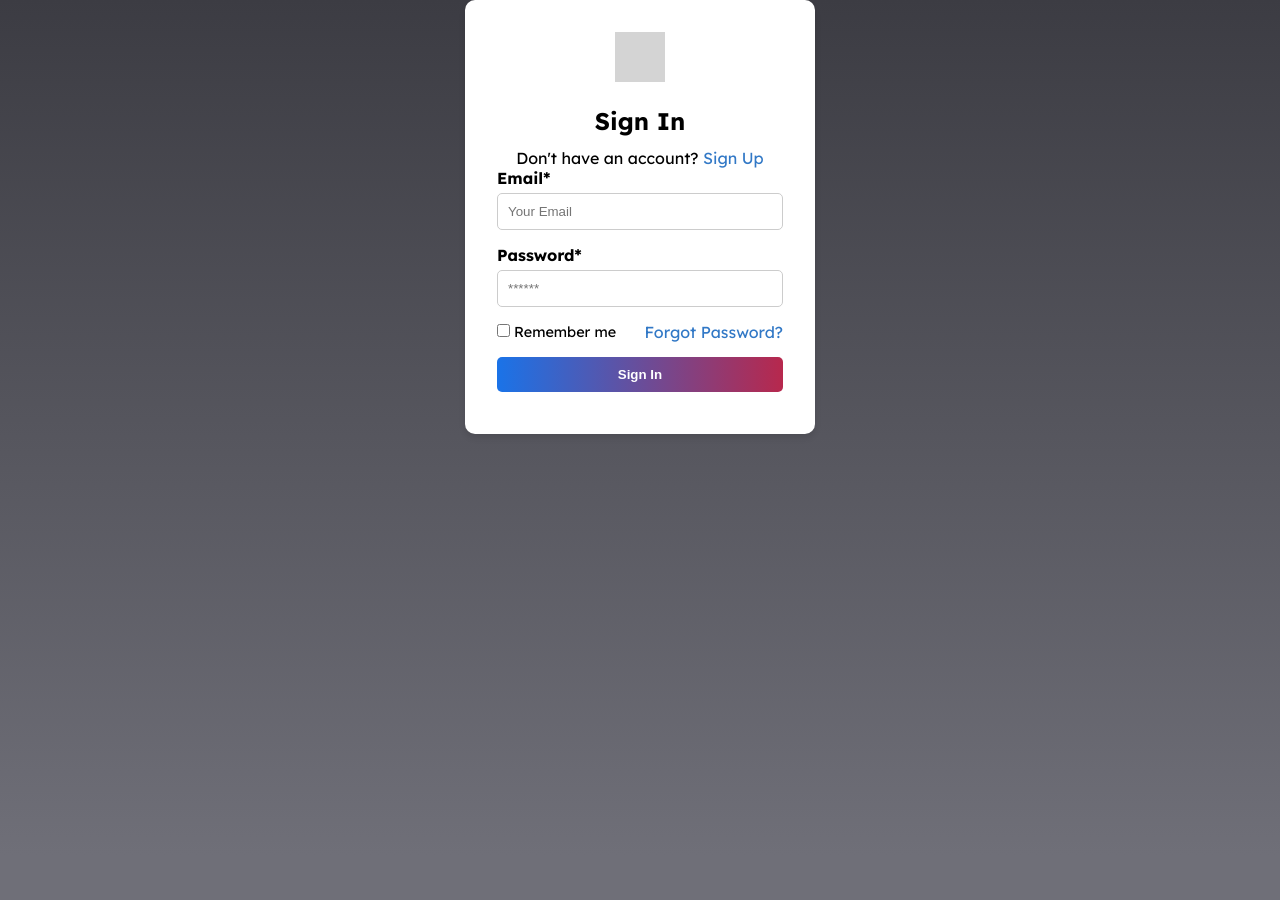
it: SignInPage › fails to log in with incorrect credentials
The image size is (1280, 900).
In the field with placeholder "Your Email": {"x": 640, "y": 212} top-left (497, 193), bottom-right (783, 230), type "wronguser@example.com"
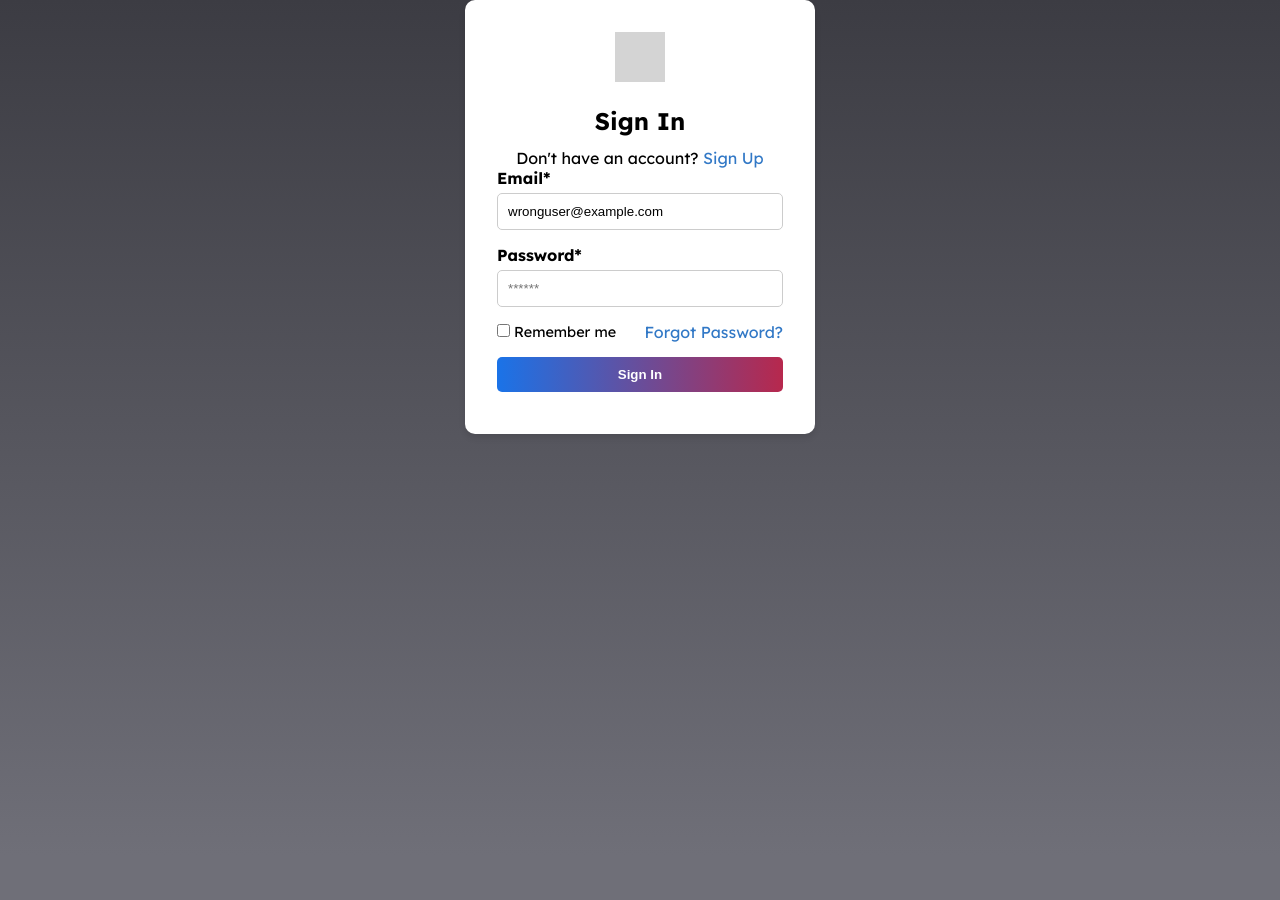
In the password field with placeholder "******": {"x": 640, "y": 288} top-left (497, 270), bottom-right (783, 307), type "wrongpassword"
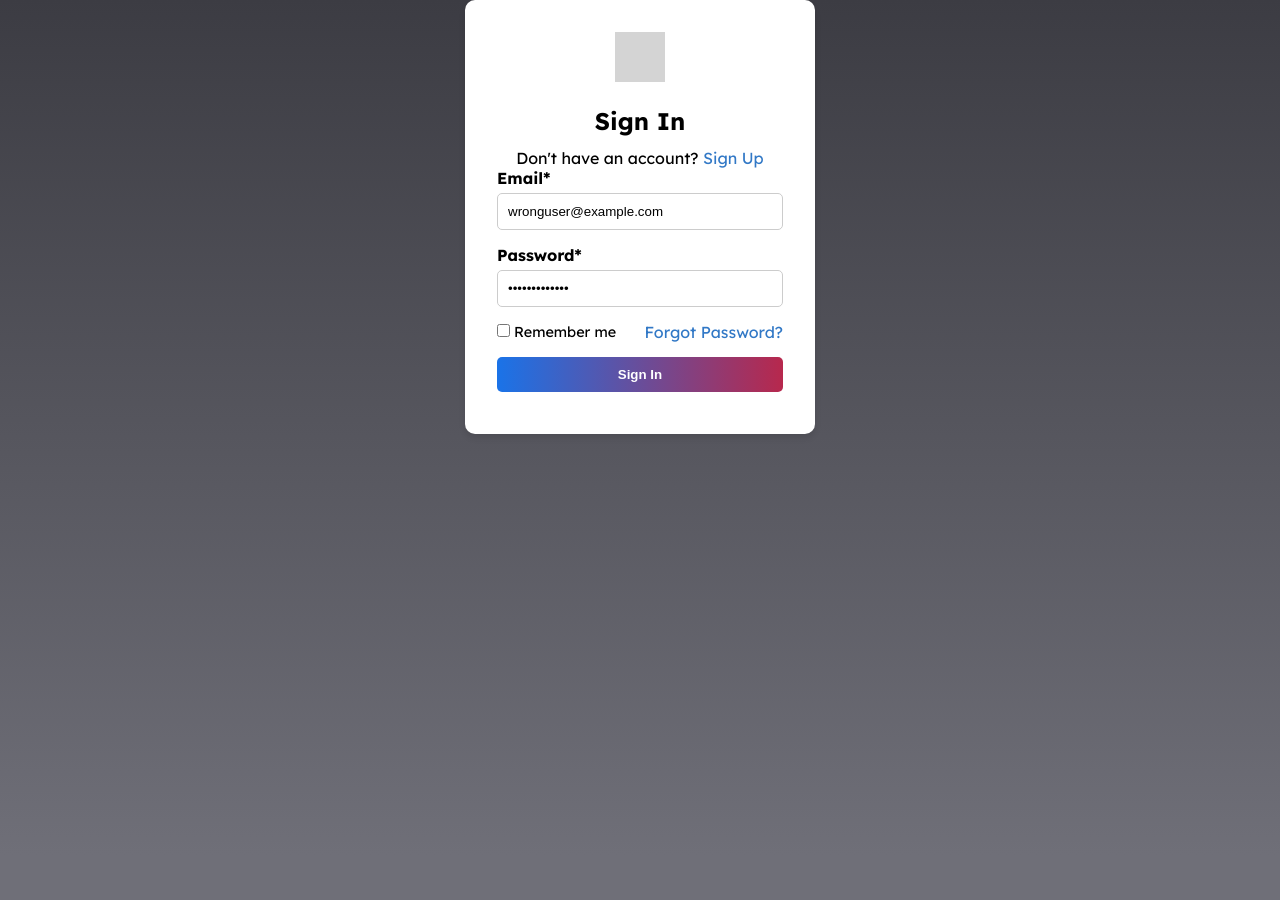
Click the button "Sign In": {"x": 640, "y": 374} top-left (497, 357), bottom-right (783, 392)
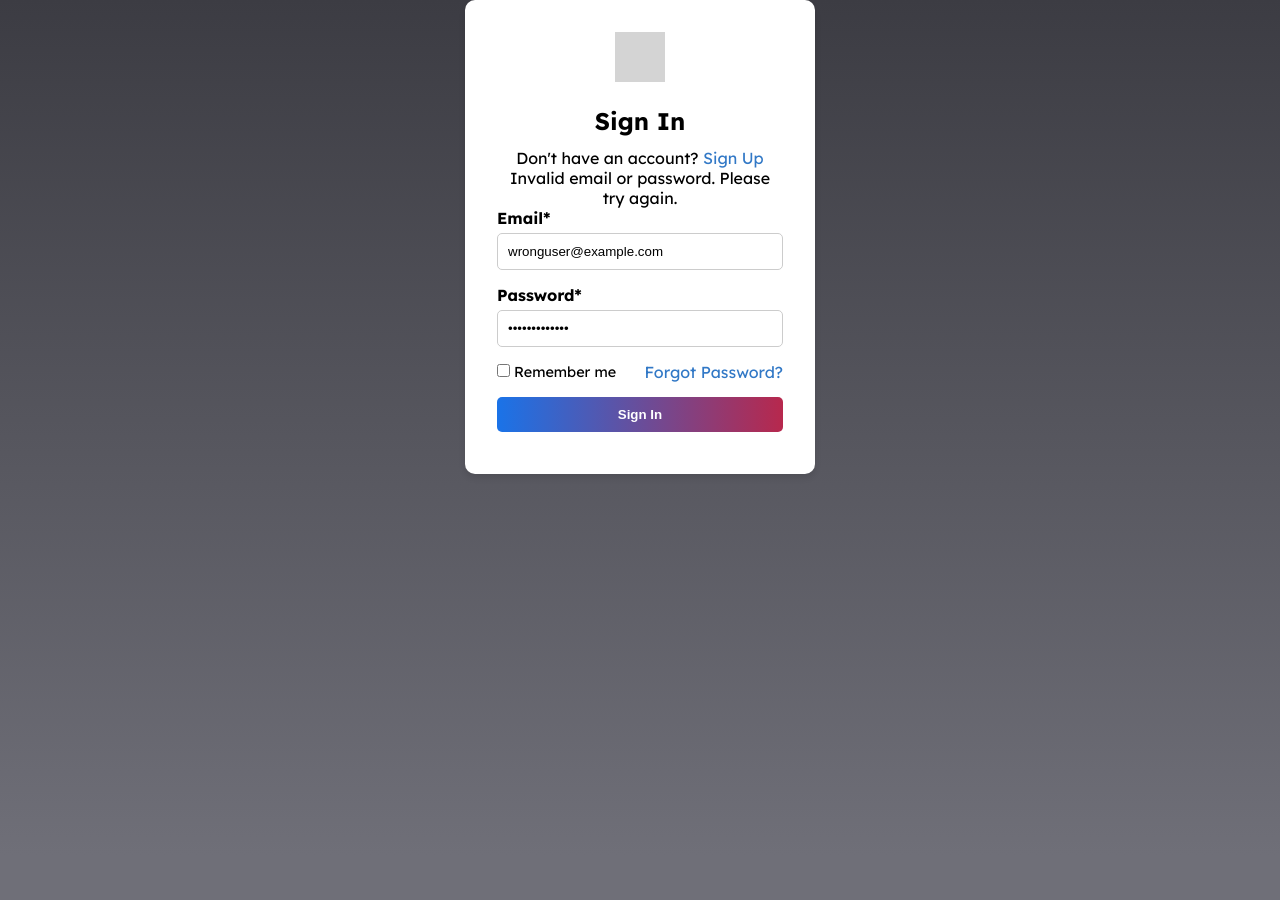
Now the text "Invalid email or password. Please try again." is shown, box top-left (497, 168), bottom-right (783, 208)
